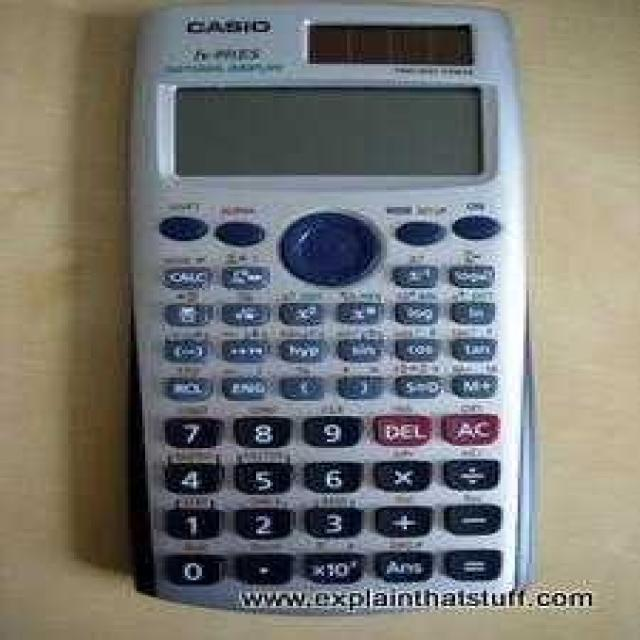Calculator: (122, 0, 534, 614)
